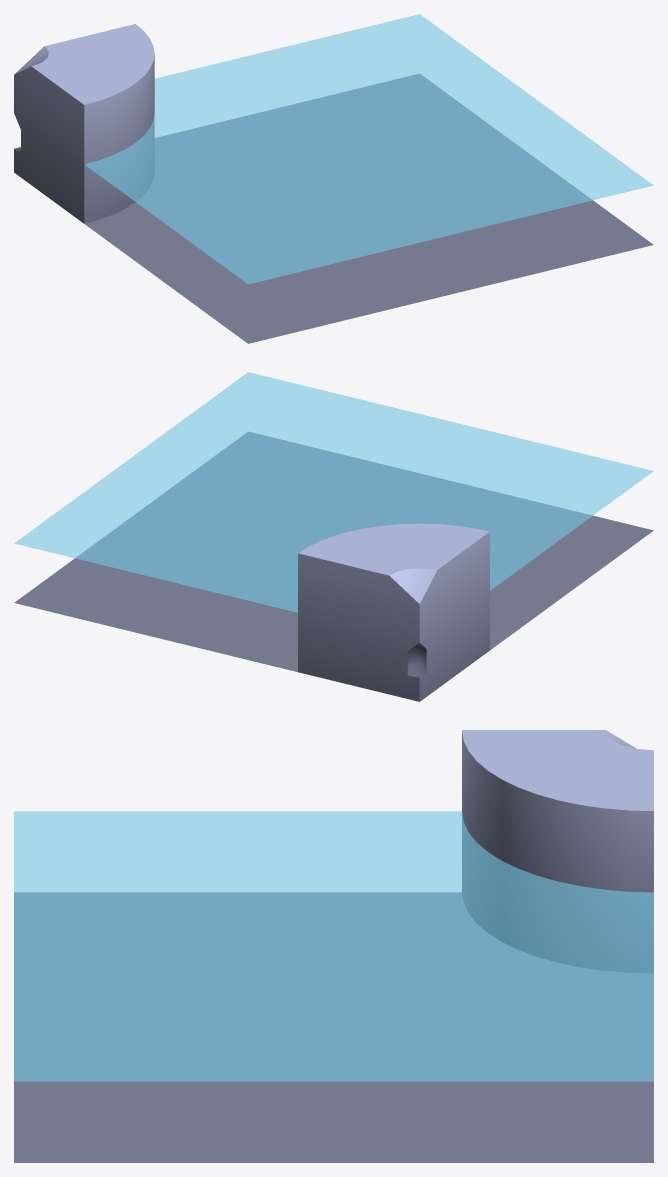
File: fountain-corner-inner.glb
3 renders of one model, top to bottom at view 1: azimuth 30°, elevation 25°; view 2: azimuth 150°, elevation 25°; view 3: azimuth 270°, elevation 25°, orthographic. The views are drawn at different scales.
Visible parts, largest first — view 1: fountain-corner-inner, (%ignore); view 2: fountain-corner-inner, (%ignore); view 3: fountain-corner-inner, (%ignore).
Part boxes in pixels (x1,y1,x2,y2): fountain-corner-inner: (14,24,653,343); (%ignore): (84,14,653,284); fountain-corner-inner: (14,432,653,701); (%ignore): (14,372,653,612); fountain-corner-inner: (14,730,653,1162); (%ignore): (14,811,653,1081).
Bounding box in the file's own units: 1 × 0.28 × 1.
2 materials, 1 textured.
